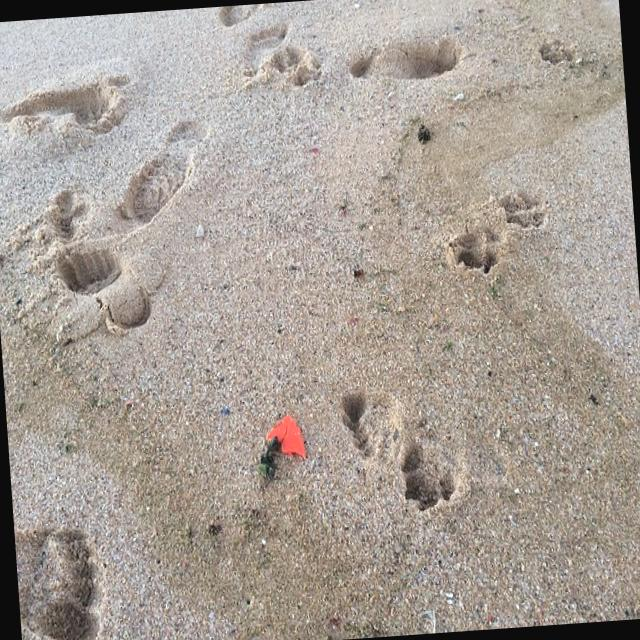Trash: (262, 412, 312, 468)
